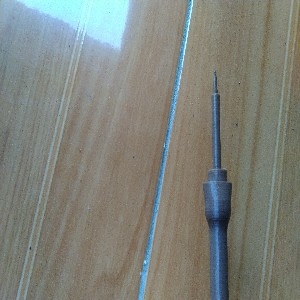solder: (202, 69, 233, 300)
